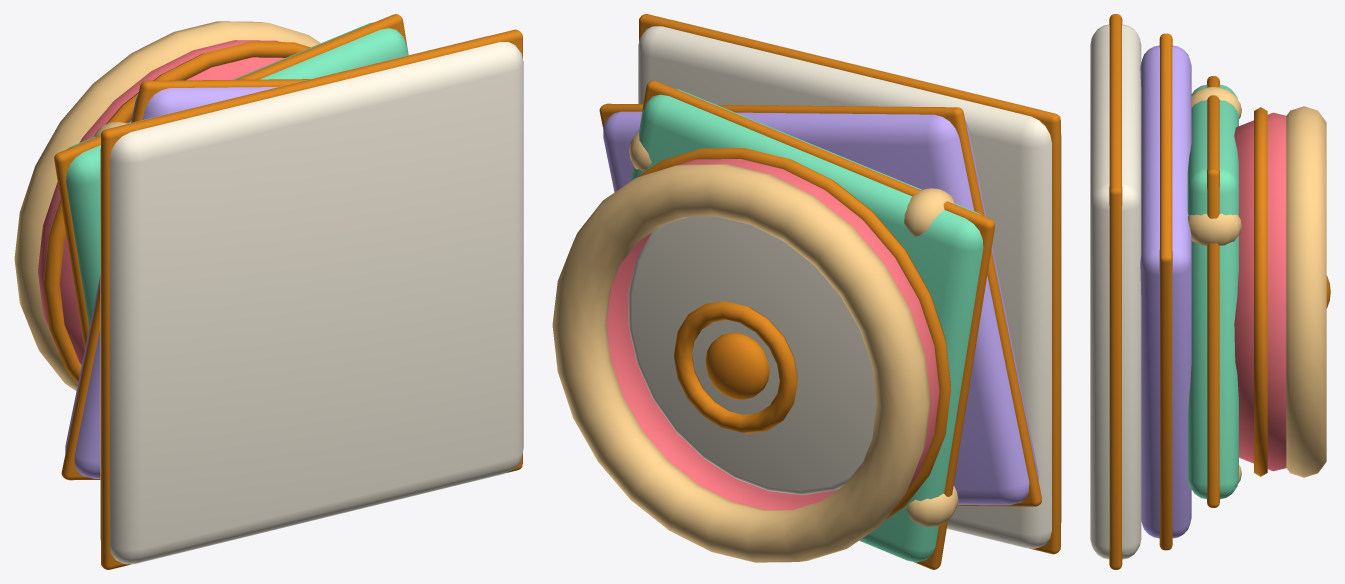
Rendered from LoftFloorCushions_Premium.fbx.
3 renders of one model, left to right at view 1: azimuth 30°, elevation 25°; view 2: azimuth 150°, elevation 25°; view 3: azimuth 270°, elevation 25°, orthographic. The views are drawn at different scales.
Parts seen in each view (by area): view 1: LoftFloorCushions; view 2: LoftFloorCushions; view 3: LoftFloorCushions.
Part boxes in pixels (left/top/right/bottom): LoftFloorCushions: left=14, top=14, right=523, bottom=569; LoftFloorCushions: left=552, top=14, right=1061, bottom=569; LoftFloorCushions: left=1090, top=14, right=1330, bottom=569.
Size of the model in its own units: 0.8958 by 0.8958 by 0.488.
